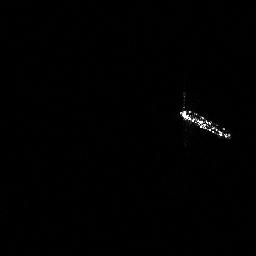ship: (176, 102, 234, 144)
